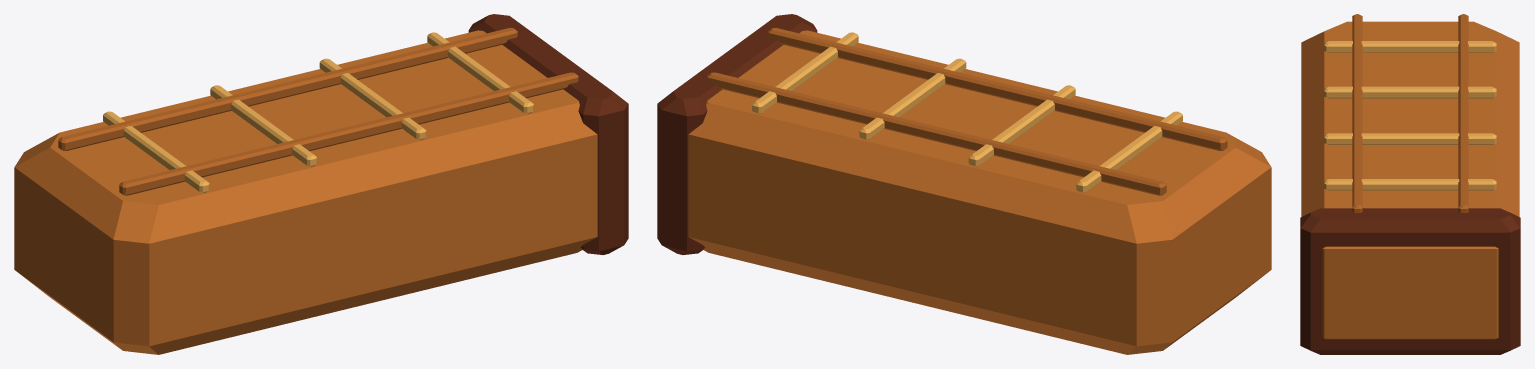
The model's file is Wafer_Block_Obstacle.obj.
3 views of the same model, side by side, from view 1: azimuth 30°, elevation 25°; view 2: azimuth 150°, elevation 25°; view 3: azimuth 270°, elevation 25° (orthographic). The views are drawn at different scales.
Visible parts, largest first — view 1: WaferBody, WaferGrid_Cross, ChocolateDip, WaferGrid_Long; view 2: WaferBody, WaferGrid_Cross, ChocolateDip, WaferGrid_Long; view 3: WaferBody, ChocolateDip, WaferGrid_Long, WaferGrid_Cross.
Part boxes in pixels (x1,y1,x2,y2): WaferBody: (14,30,597,354); WaferGrid_Cross: (58,28,578,195); ChocolateDip: (468,14,628,254); WaferGrid_Long: (103,32,533,192); WaferBody: (688,30,1271,354); WaferGrid_Cross: (707,28,1227,195); ChocolateDip: (657,14,817,254); WaferGrid_Long: (752,32,1182,192); WaferBody: (1301,21,1519,339); ChocolateDip: (1300,208,1520,354); WaferGrid_Long: (1324,41,1496,190); WaferGrid_Cross: (1352,14,1468,212).
Size of the model in its own units: 2.7 by 0.825 by 1.16.
